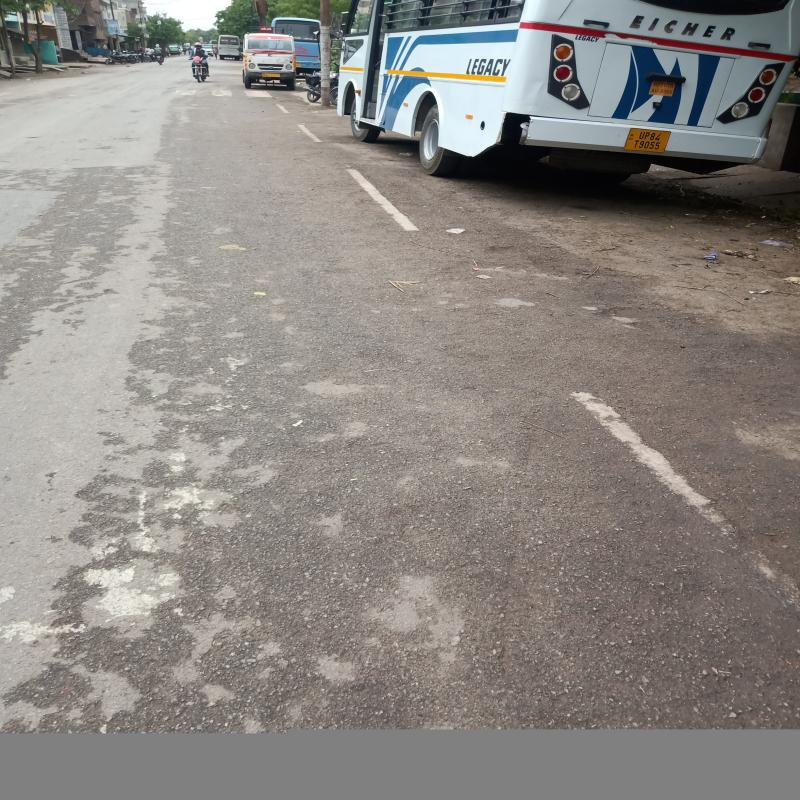bus: (338, 5, 785, 188)
